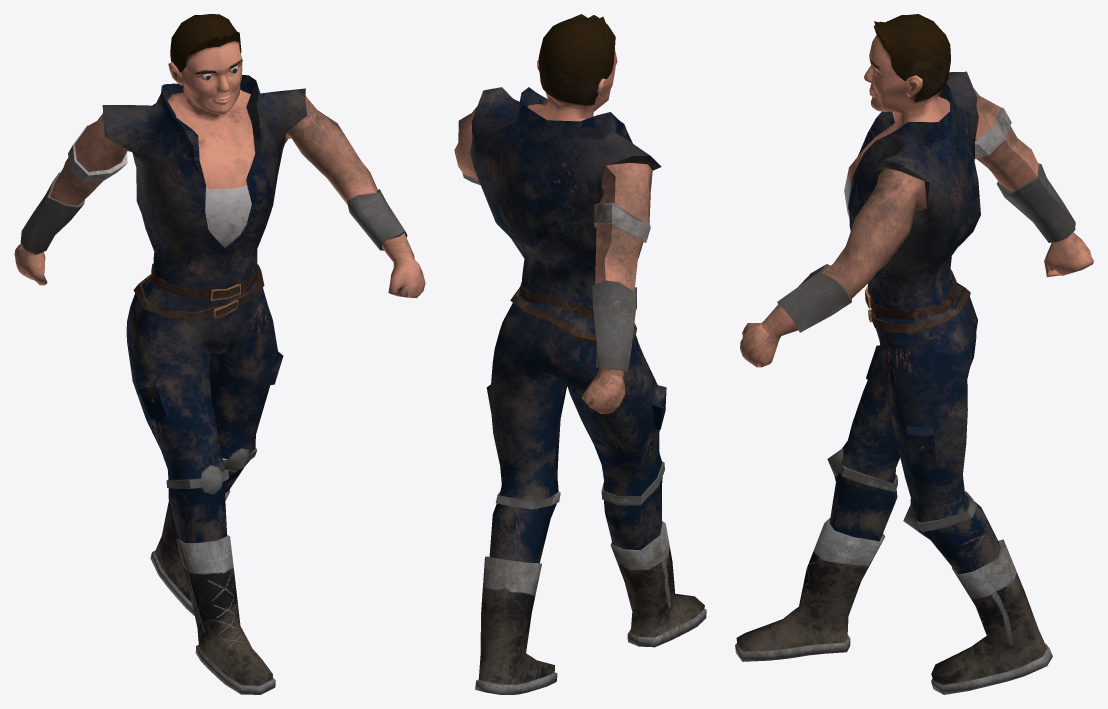
Rendered from Anim_andar_jugador.0025.obj.
The picture shows the model from 3 angles, left to right: view 1: azimuth 30°, elevation 25°; view 2: azimuth 150°, elevation 25°; view 3: azimuth 270°, elevation 25°; orthographic projection. The views are drawn at different scales.
Visible parts, largest first — view 1: Anim_andar_jugador; view 2: Anim_andar_jugador; view 3: Anim_andar_jugador.
Boxes of the visible parts, x1,y1,x2,y2 form: Anim_andar_jugador: [14, 14, 425, 694]; Anim_andar_jugador: [454, 14, 706, 694]; Anim_andar_jugador: [735, 14, 1093, 694].
Size of the model in its own units: 4.28 by 9.65 by 4.77.
